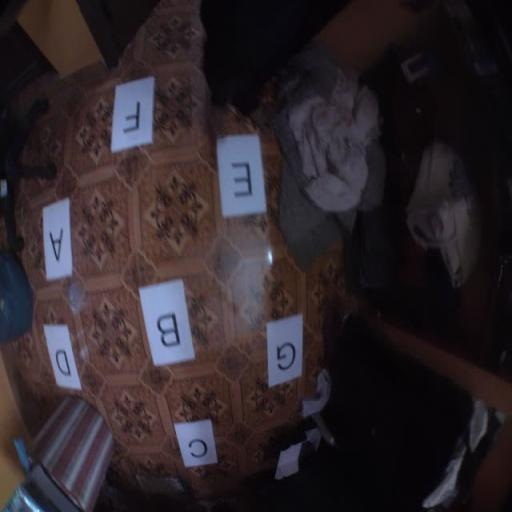A: (42, 197, 72, 282)
B: (138, 277, 196, 366)
C: (174, 418, 218, 468)
D: (43, 324, 82, 390)
E: (216, 133, 266, 218)
F: (110, 76, 156, 152)
G: (266, 313, 304, 387)
